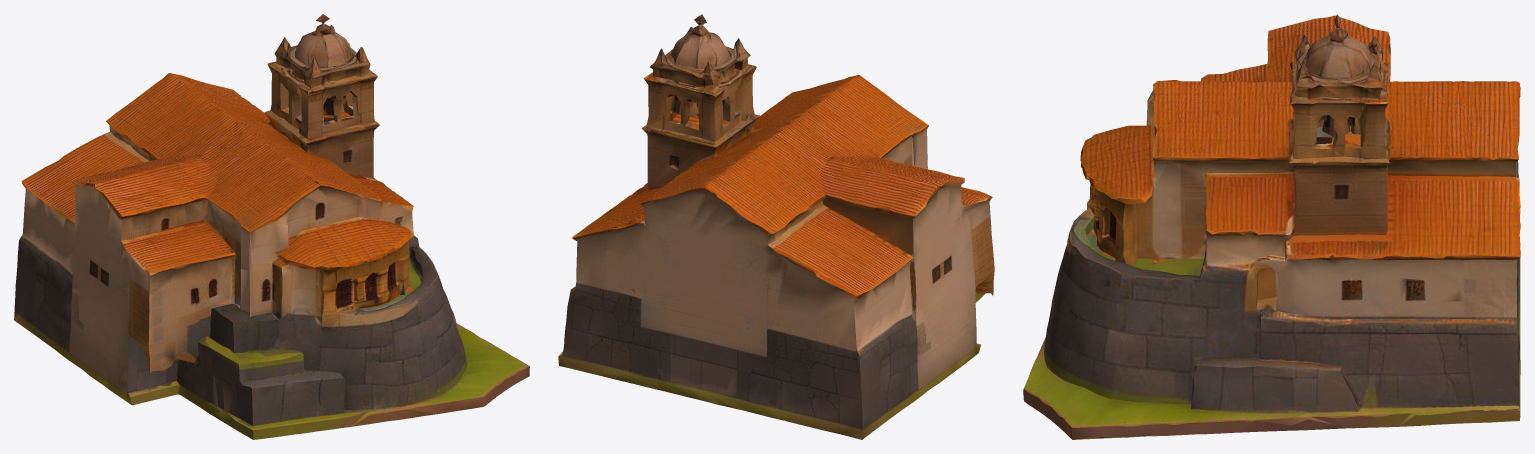
File: qorikancha.glb
3 renders of one model, left to right at view 1: azimuth 30°, elevation 25°; view 2: azimuth 150°, elevation 25°; view 3: azimuth 270°, elevation 25°, orthographic. The views are drawn at different scales.
Visible parts, largest first — view 1: logan-textured.obj; view 2: logan-textured.obj; view 3: logan-textured.obj.
Part boxes in pixels (x1=…): logan-textured.obj: x1=14, y1=14, x2=529, y2=439; logan-textured.obj: x1=558, y1=14, x2=994, y2=439; logan-textured.obj: x1=1023, y1=14, x2=1520, y2=439.
Size of the model in its own units: 0.9258 by 0.8187 by 1.
1 material, 1 textured.
